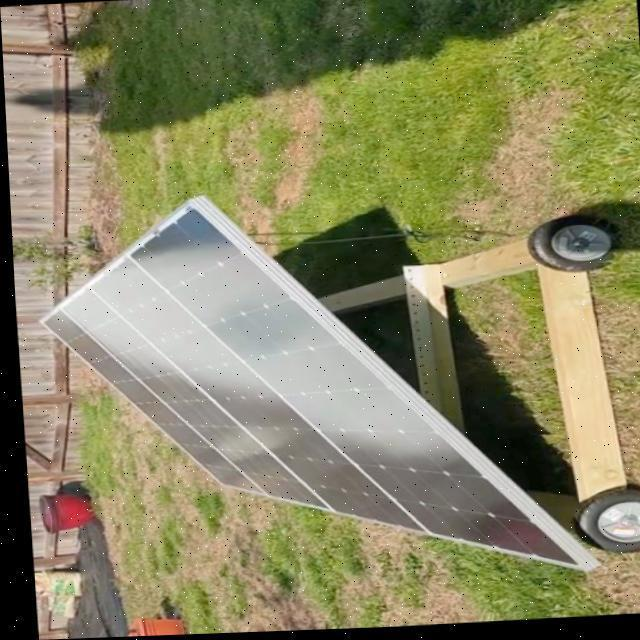Normal Solar Panel: (29, 184, 584, 600)
